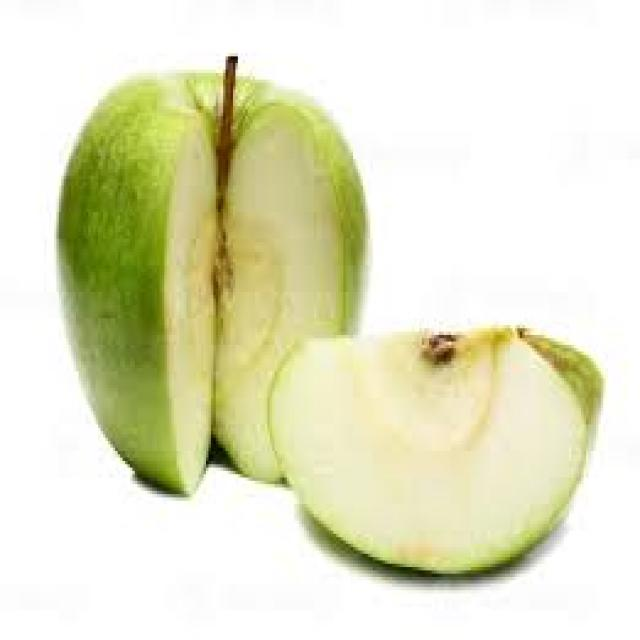Apple: (56, 57, 369, 501), (276, 333, 602, 560)
